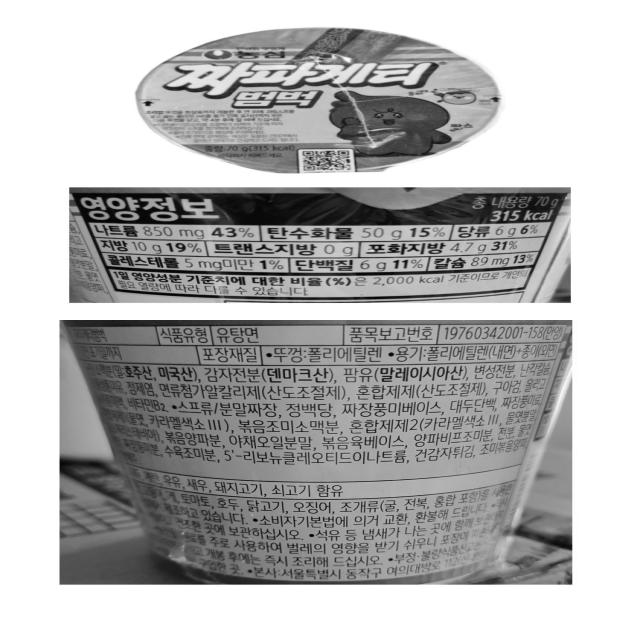Nutrition Label: (60, 188, 596, 300)
